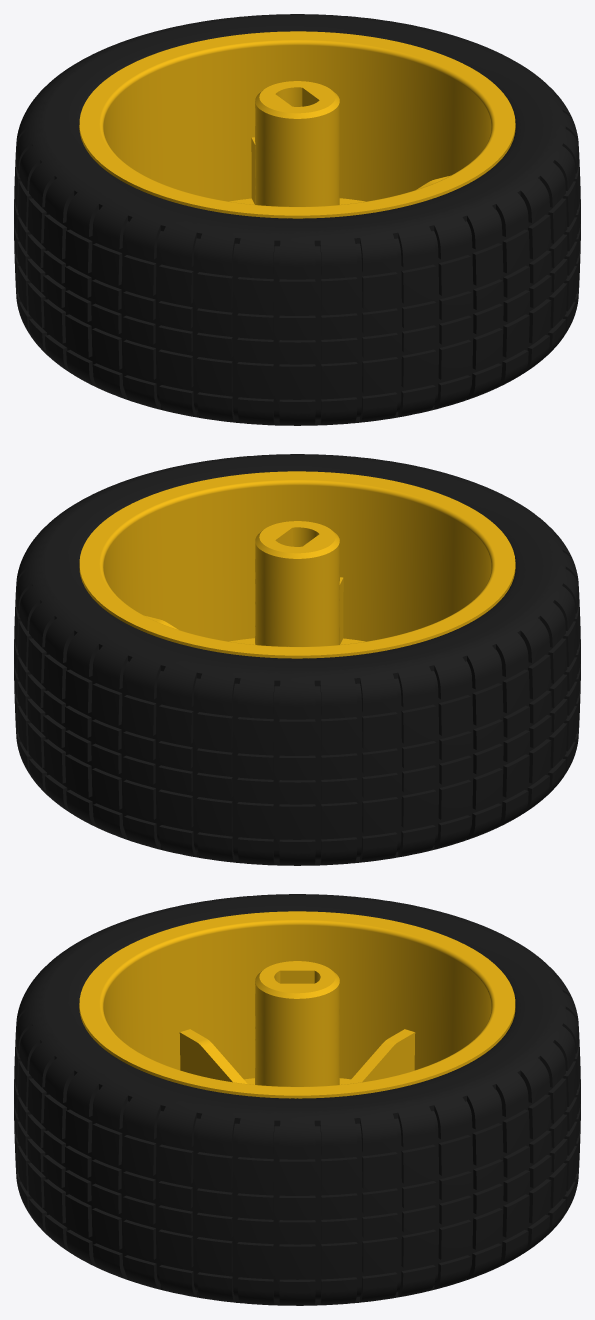
File: tt_motor_wheel_65mm.dae
3 views of the same model, one above another, from view 1: azimuth 30°, elevation 25°; view 2: azimuth 150°, elevation 25°; view 3: azimuth 270°, elevation 25° (orthographic).
Parts seen in each view (by area): view 1: tyre, rim; view 2: tyre, rim; view 3: tyre, rim.
Part boxes in pixels (x1=…): tyre: x1=14, y1=14, x2=580, y2=425; rim: x1=79, y1=31, x2=515, y2=218; tyre: x1=14, y1=454, x2=580, y2=865; rim: x1=79, y1=471, x2=515, y2=658; tyre: x1=14, y1=894, x2=580, y2=1305; rim: x1=79, y1=911, x2=515, y2=1098.
Size of the model in its own units: 0.0666 by 0.0666 by 0.0284.
